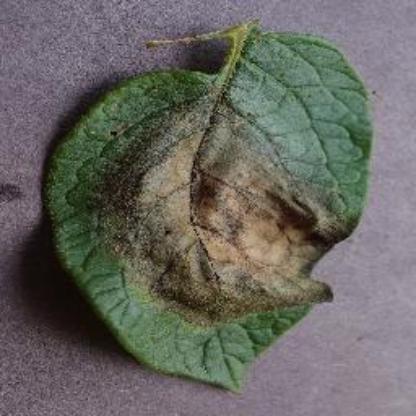Late-Blight: (38, 33, 396, 402)
